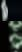bow: (8, 0, 22, 21)
breastplate: (0, 21, 8, 52)
ropeT: (0, 0, 8, 21)
tungsten: (8, 21, 22, 32)
